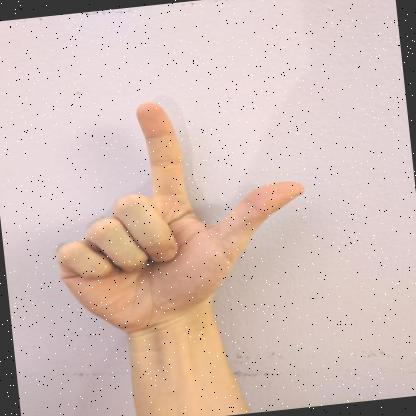L: (56, 102, 303, 337)
